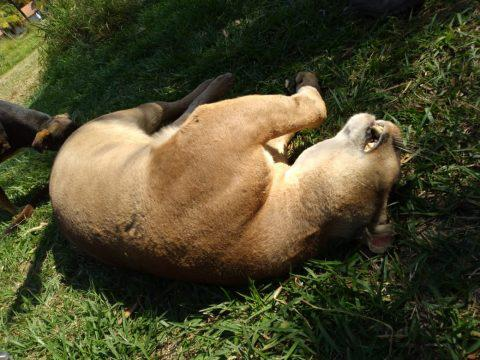OncaParda: (53, 67, 411, 289)
